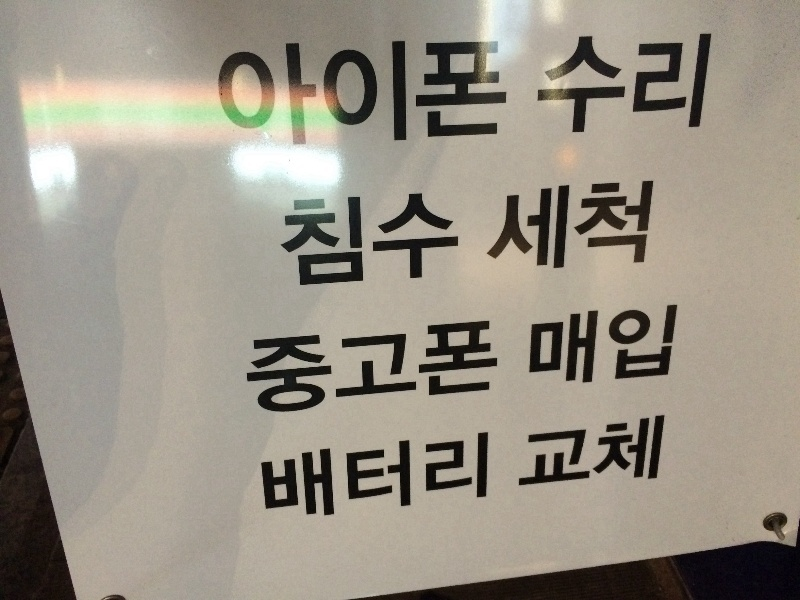text: (225, 40, 240, 151), (241, 40, 256, 151), (257, 40, 272, 151), (273, 40, 288, 151), (289, 40, 304, 151), (305, 40, 320, 151), (321, 40, 336, 151), (337, 40, 352, 151), (353, 40, 368, 151), (369, 40, 384, 151), (385, 40, 400, 151), (401, 40, 416, 151), (417, 40, 432, 151), (433, 40, 448, 151), (449, 40, 464, 151), (465, 40, 480, 151), (481, 40, 496, 151), (561, 33, 576, 134), (577, 33, 592, 134), (593, 33, 608, 134), (609, 33, 624, 134), (625, 33, 640, 134), (641, 33, 656, 134), (657, 33, 672, 134), (673, 33, 688, 134), (689, 33, 704, 134), (257, 318, 272, 418), (273, 318, 288, 418), (289, 318, 304, 418), (305, 318, 320, 418), (321, 318, 336, 418), (337, 318, 352, 418), (353, 318, 368, 418), (369, 318, 384, 418), (385, 318, 400, 418), (401, 318, 416, 418), (417, 318, 432, 418), (433, 318, 448, 418), (449, 318, 464, 418), (465, 318, 480, 418), (481, 318, 496, 418), (289, 190, 304, 288), (305, 190, 320, 288), (321, 190, 336, 288), (337, 190, 352, 288), (353, 190, 368, 288), (369, 190, 384, 288), (385, 190, 400, 288), (401, 190, 416, 288), (417, 190, 432, 288), (433, 190, 448, 288), (546, 33, 560, 134), (273, 430, 288, 523), (289, 430, 304, 523), (305, 430, 320, 523), (321, 430, 336, 523), (337, 430, 352, 523), (353, 430, 368, 523), (369, 430, 384, 523), (385, 430, 400, 523), (401, 430, 416, 523), (417, 430, 432, 523), (433, 430, 448, 523), (449, 430, 464, 523), (465, 430, 480, 523), (513, 176, 528, 269), (529, 176, 544, 269), (545, 176, 560, 269), (561, 176, 576, 269), (577, 176, 592, 269), (593, 176, 608, 269), (609, 176, 624, 269), (625, 176, 640, 269), (641, 176, 656, 269), (545, 303, 560, 385), (561, 303, 576, 385), (577, 303, 592, 385), (593, 303, 608, 385), (609, 303, 624, 385), (625, 303, 640, 385), (641, 303, 656, 385), (657, 303, 672, 385), (497, 40, 508, 151), (529, 413, 544, 489), (545, 413, 560, 489), (561, 413, 576, 489), (577, 413, 592, 489), (593, 413, 608, 489), (609, 413, 624, 489), (625, 413, 640, 489), (641, 413, 656, 489), (260, 430, 272, 523), (531, 303, 544, 385), (501, 176, 512, 269), (246, 318, 256, 418), (215, 40, 224, 151), (278, 190, 288, 288), (449, 190, 459, 288), (705, 33, 713, 134), (481, 430, 489, 523), (657, 413, 666, 489), (673, 303, 680, 385), (523, 413, 528, 489), (497, 318, 500, 418)
